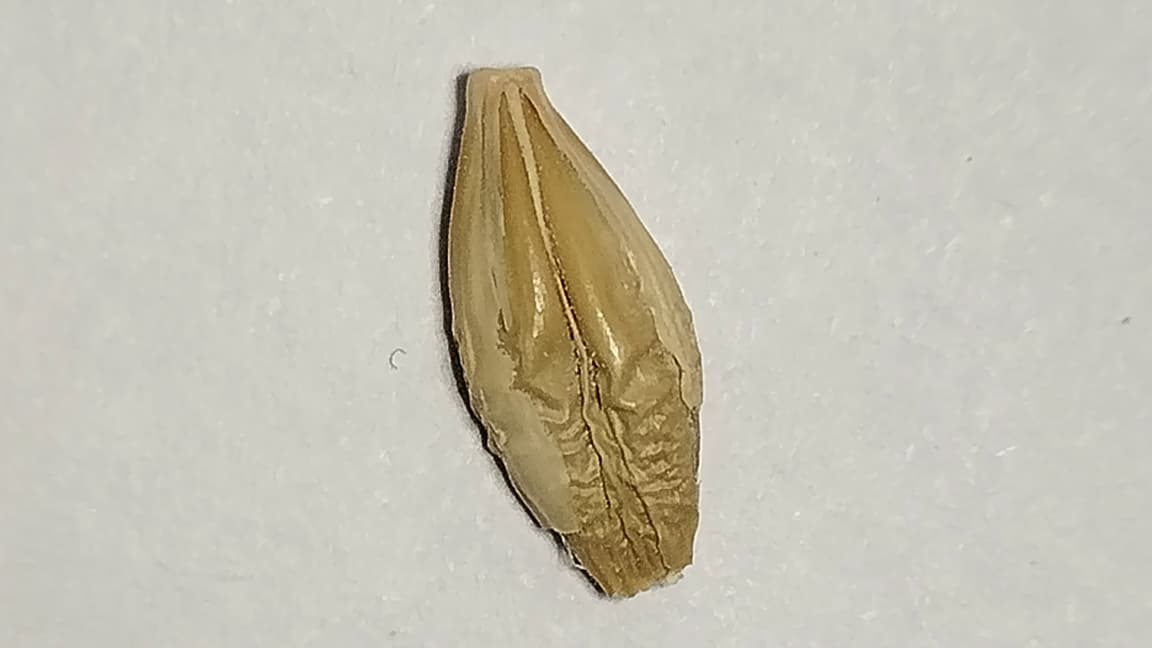healthy-50-40: (448, 69, 701, 595)
shriveledseed: (516, 340, 706, 571)
